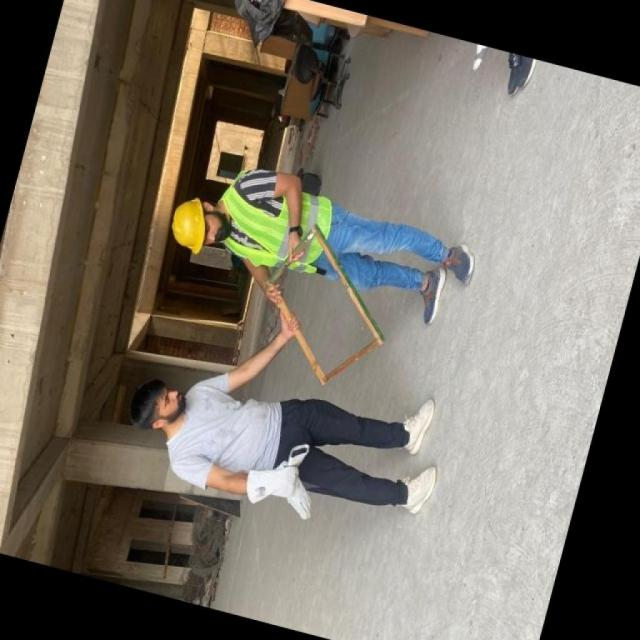Gloves-Detection: (241, 452, 319, 518)
